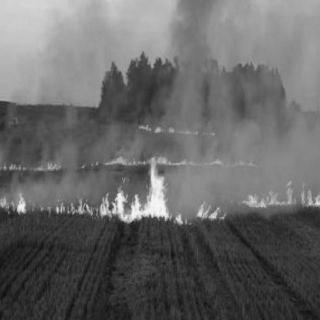Fire: (1, 154, 253, 170), (133, 115, 216, 138), (244, 187, 318, 207)
